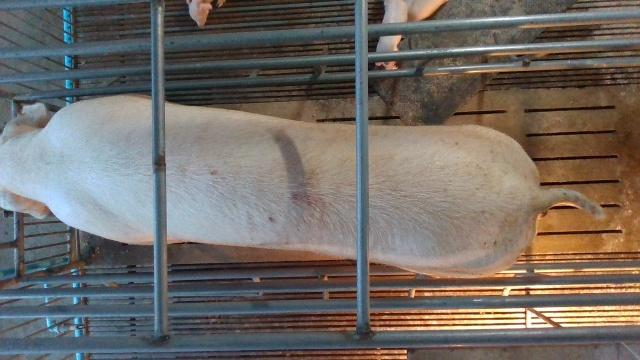piglet: (374, 1, 408, 72), (184, 0, 226, 28), (407, 0, 452, 21)
sow-stand-feed: (2, 95, 605, 274)
